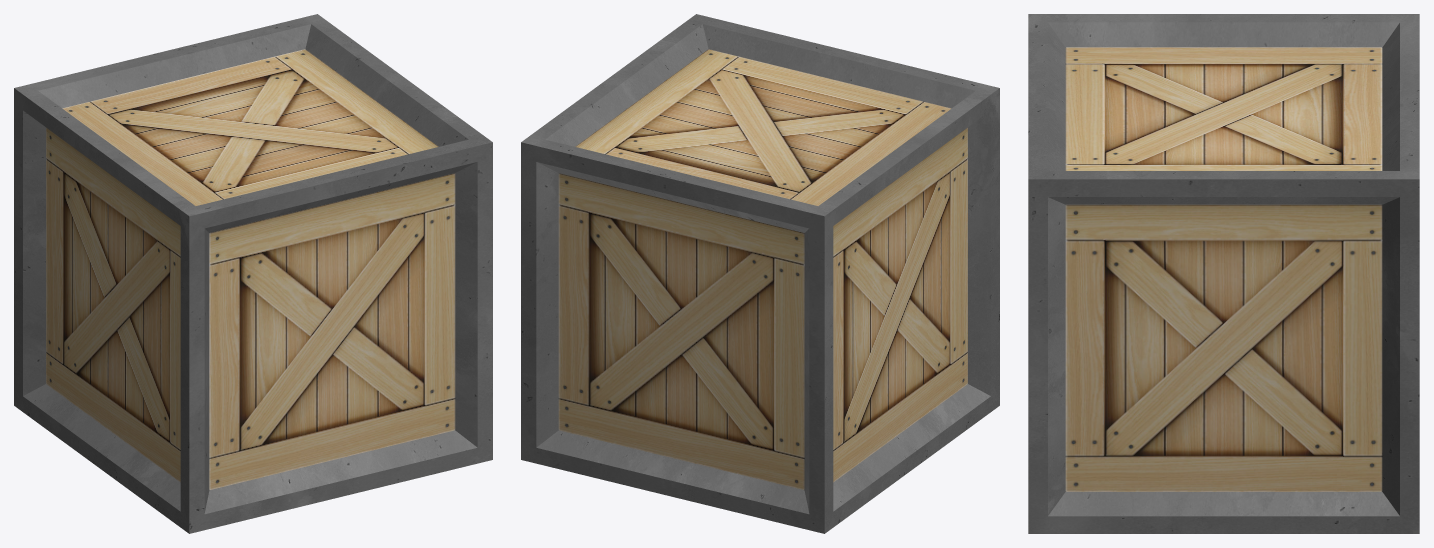
The model's file is crate01_fbx.fbx.
The picture shows the model from 3 angles, left to right: view 1: azimuth 30°, elevation 25°; view 2: azimuth 150°, elevation 25°; view 3: azimuth 270°, elevation 25°; orthographic projection. The views are drawn at different scales.
Visible parts, largest first — view 1: Cube; view 2: Cube; view 3: Cube.
Part boxes in pixels (x1,y1,x2,y2): Cube: (14, 14, 492, 533); Cube: (521, 14, 999, 533); Cube: (1028, 14, 1419, 533).
Bounding box in the file's own units: 200 × 200 × 200.
